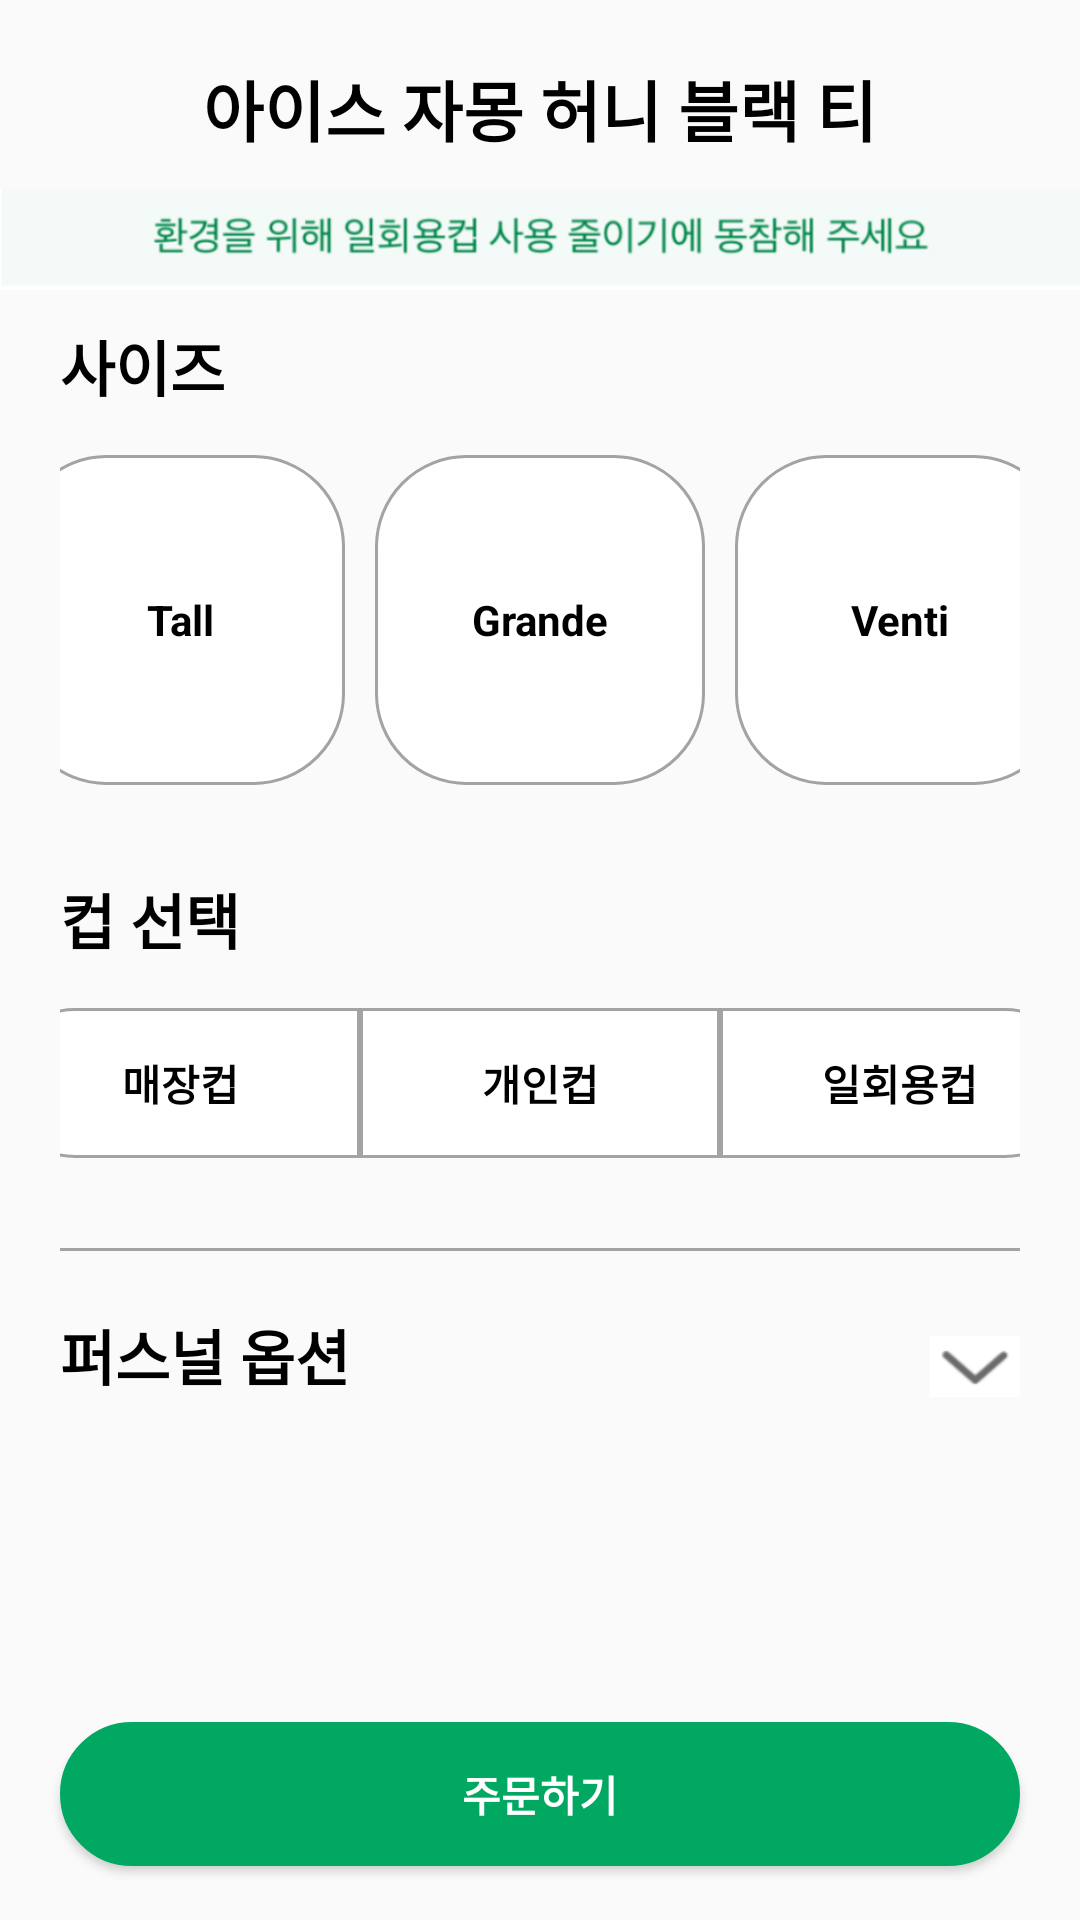

Locate icon controls on the screen. Image size 1080px×1920px, boxes as (x1,y1,x2,y2).
arrow: (942,1351,1008,1384)
